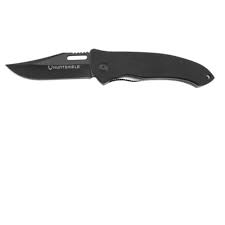knife: (2, 39, 217, 101)
